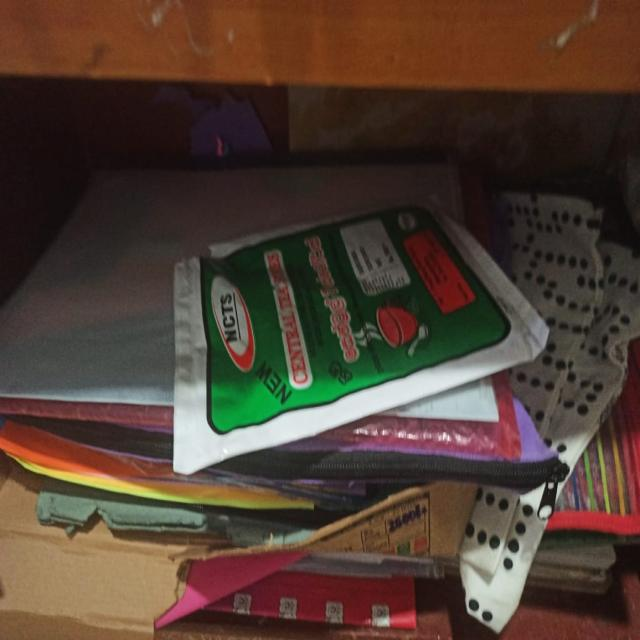Central Tea: (145, 217, 573, 463)
